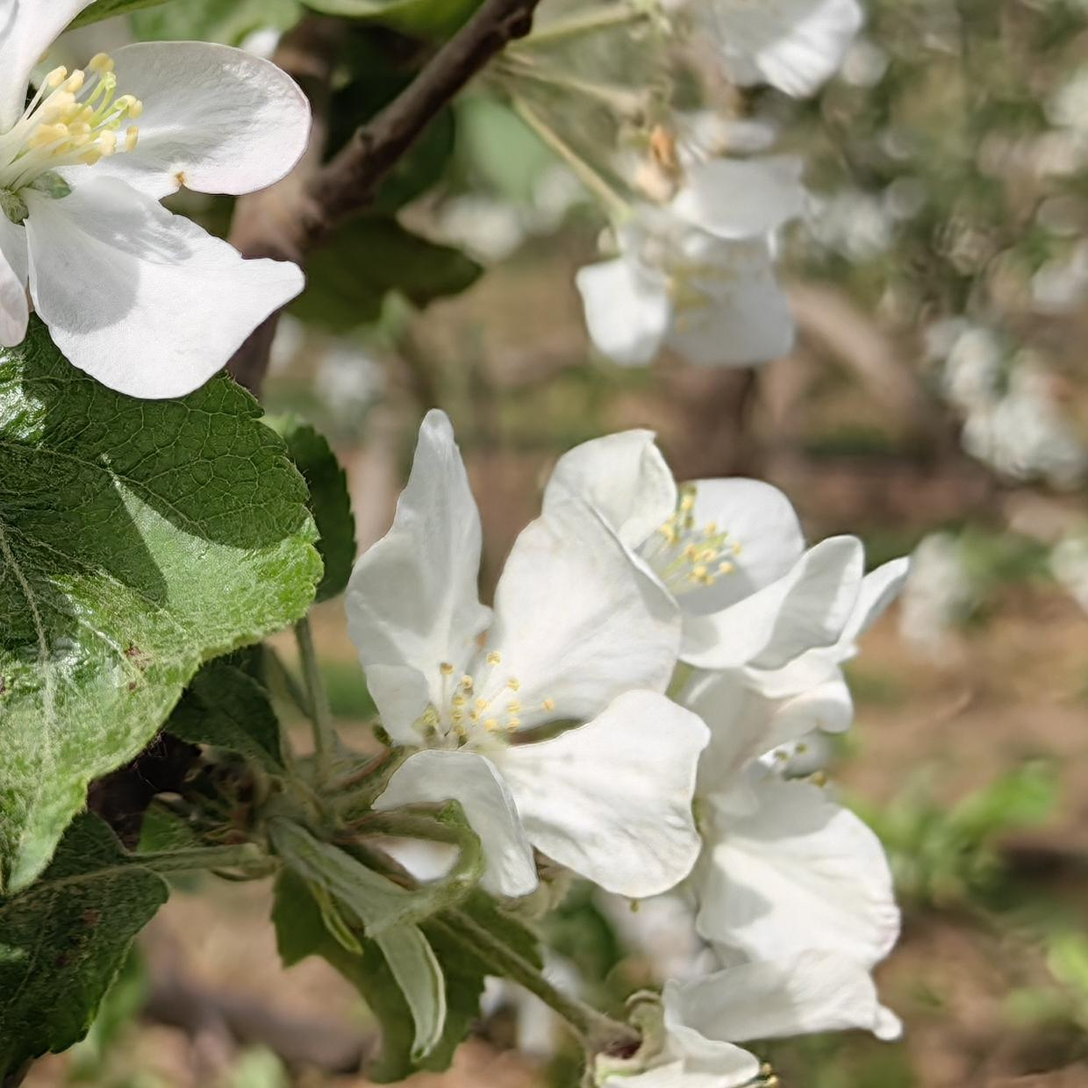apple_flower: (347, 412, 906, 1088), (0, 0, 311, 397)
